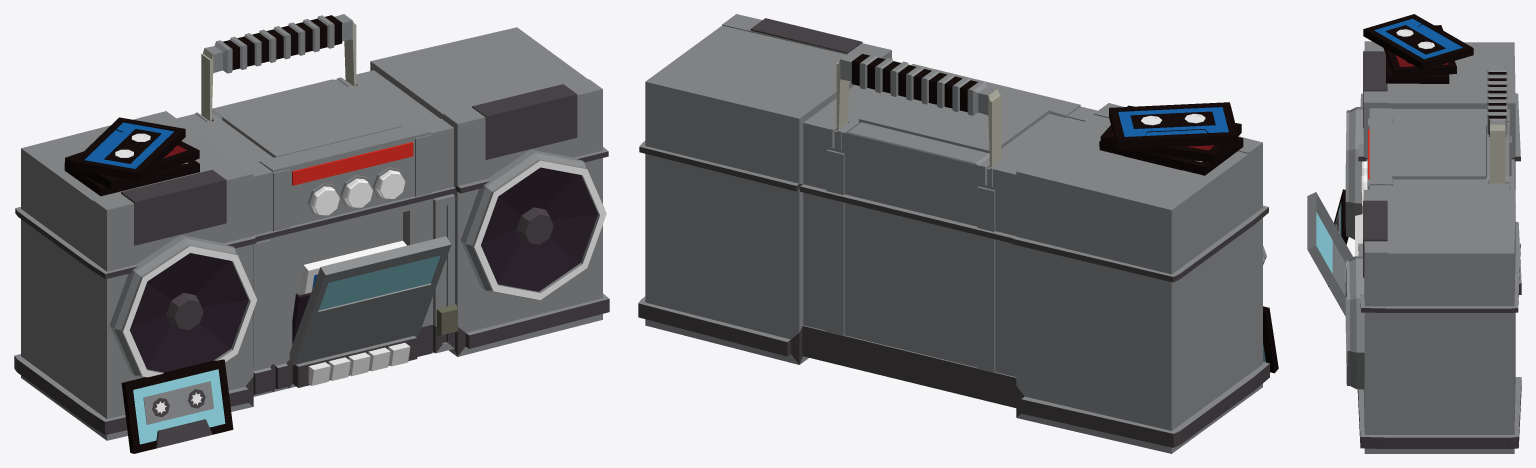
3 views of the same model, side by side, from view 1: azimuth 30°, elevation 25°; view 2: azimuth 150°, elevation 25°; view 3: azimuth 270°, elevation 25° (orthographic). The views are drawn at different scales.
Visible parts, largest first — view 1: Cube, Cube.008, Cube.020, Cube.021, Cube.005, Cube.019, Cube.003, Cube.002, Cube.007, Cube.006, Cube.004, Cube.009 (+4 smaller); view 2: Cube, Cube.019, Cube.007, Cube.002, Cube.004, Cube.006, Cube.005; view 3: Cube, Cube.007, Cube.008, Cube.019, Cube.002, Cube.003, Cube.006, Cube.004, Cube.005, Cube.009.
Part boxes in pixels (left/top/right/bottom): Cube: left=14, top=27, right=609, bottom=440; Cube.008: left=289, top=236, right=451, bottom=364; Cube.020: left=481, top=167, right=597, bottom=291; Cube.021: left=129, top=253, right=248, bottom=372; Cube.005: left=121, top=359, right=233, bottom=453; Cube.019: left=201, top=14, right=356, bottom=121; Cube.003: left=121, top=169, right=226, bottom=245; Cube.002: left=472, top=84, right=577, bottom=159; Cube.007: left=73, top=117, right=185, bottom=181; Cube.006: left=65, top=141, right=199, bottom=188; Cube.004: left=64, top=160, right=199, bottom=196; Cube.009: left=299, top=240, right=406, bottom=295; Cube: left=638, top=14, right=1269, bottom=453; Cube.019: left=836, top=52, right=1001, bottom=167; Cube.007: left=1109, top=102, right=1238, bottom=149; Cube.002: left=750, top=18, right=862, bottom=53; Cube.004: left=1099, top=137, right=1243, bottom=175; Cube.006: left=1100, top=105, right=1241, bottom=163; Cube.005: left=1263, top=306, right=1278, bottom=373; Cube: left=1345, top=41, right=1521, bottom=453; Cube.007: left=1363, top=14, right=1473, bottom=70; Cube.008: left=1307, top=192, right=1352, bottom=316; Cube.019: left=1487, top=65, right=1507, bottom=183; Cube.002: left=1363, top=200, right=1387, bottom=277; Cube.003: left=1363, top=51, right=1387, bottom=128; Cube.006: left=1383, top=25, right=1456, bottom=77; Cube.004: left=1386, top=55, right=1449, bottom=83; Cube.005: left=1328, top=189, right=1348, bottom=286; Cube.009: left=1355, top=214, right=1362, bottom=256.
Size of the model in its own units: 6.99 by 3.87 by 2.93.
Materials: 1 (1 with a texture image).
